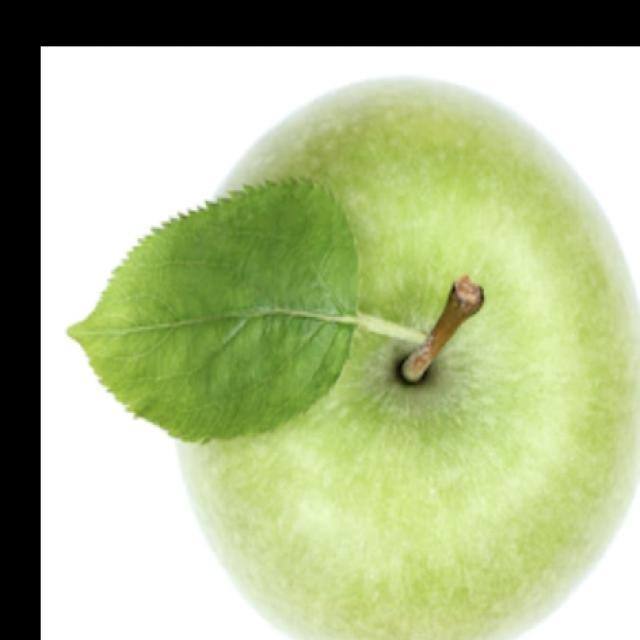Fresh Apple: (68, 71, 640, 638)
